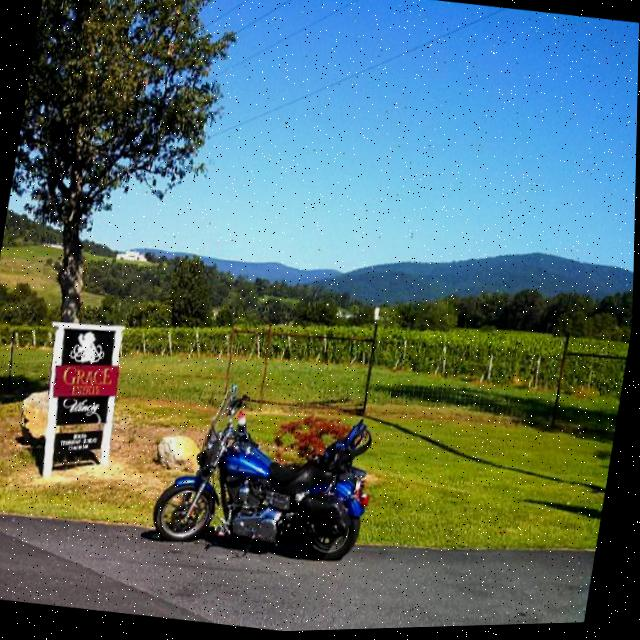motorcycle: (141, 375, 392, 576)
